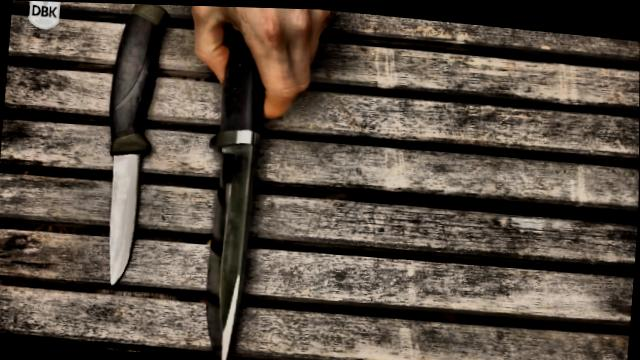knife: (162, 37, 321, 360), (89, 116, 160, 305)
